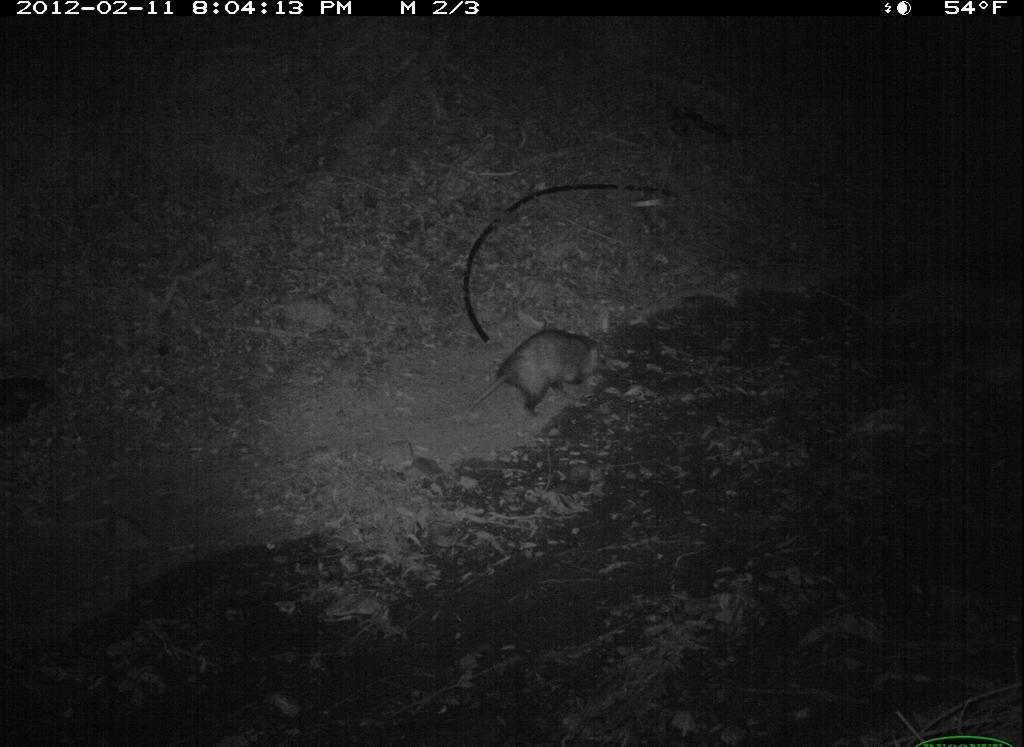opossum: (460, 321, 623, 432)
